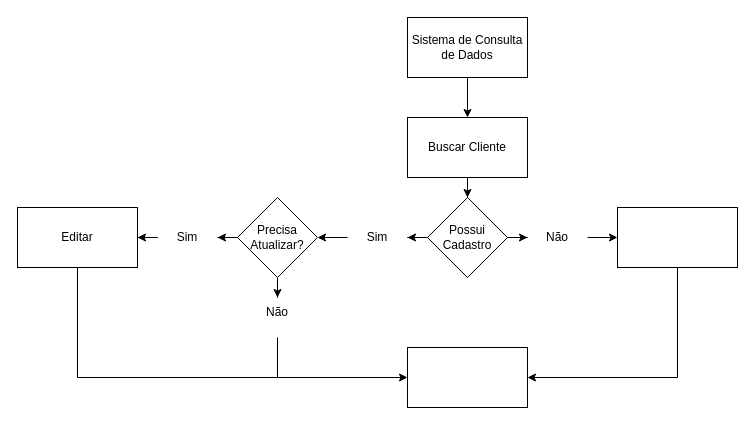
The diagram is 755 pixels wide and 425 high, and some of its shapes have lost their labels. The centre of each missing label's shape, as x and y in pixels:
"Cadastrar Cliente" goes at (x=677, y=237).
"Fim" goes at (x=467, y=377).
